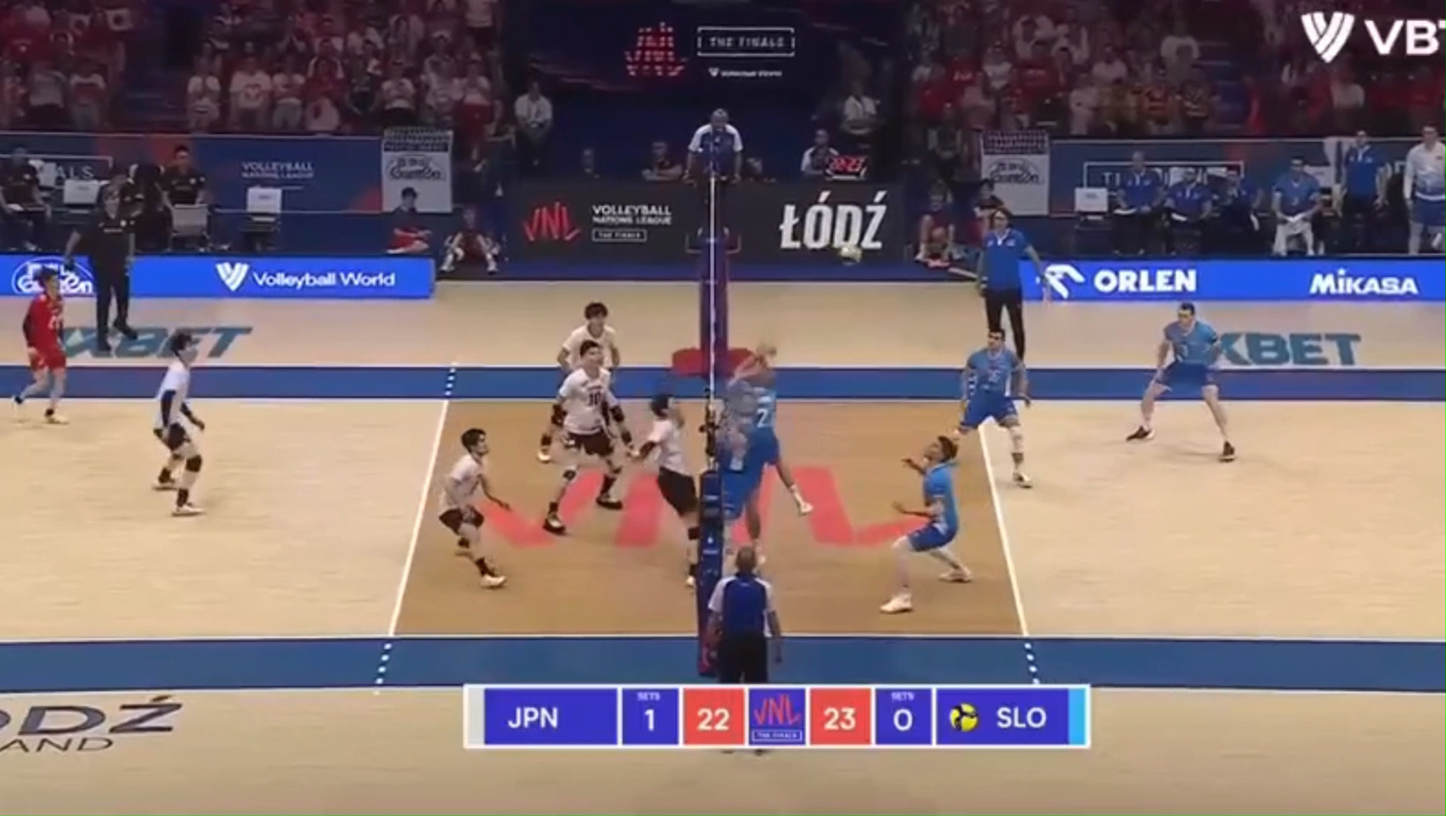ball: (838, 244, 862, 264)
player: (1127, 301, 1235, 461), (729, 344, 812, 544), (879, 435, 971, 614), (957, 329, 1031, 487), (715, 403, 759, 551)
player 1: (538, 341, 632, 533), (632, 394, 700, 586), (437, 428, 509, 588), (556, 301, 642, 426), (153, 331, 205, 516), (13, 269, 67, 423)
referee: (65, 184, 137, 351), (707, 547, 780, 682), (978, 209, 1042, 357), (685, 108, 743, 252)
